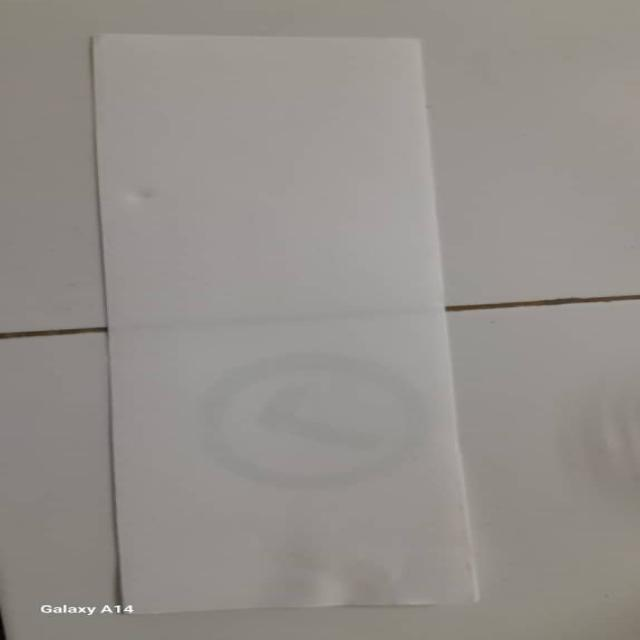Paper Chromatography: (90, 31, 465, 614)
